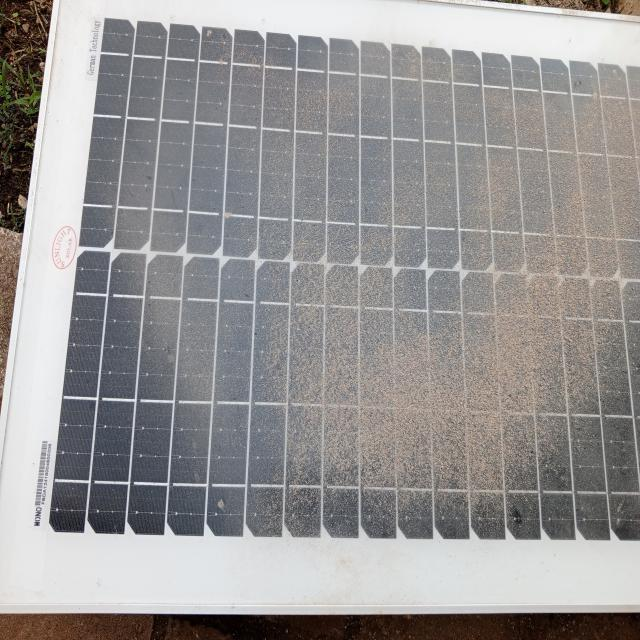Anomaly Solar Panel: (69, 42, 639, 542)
Surface Contaminant: (234, 42, 639, 542)
